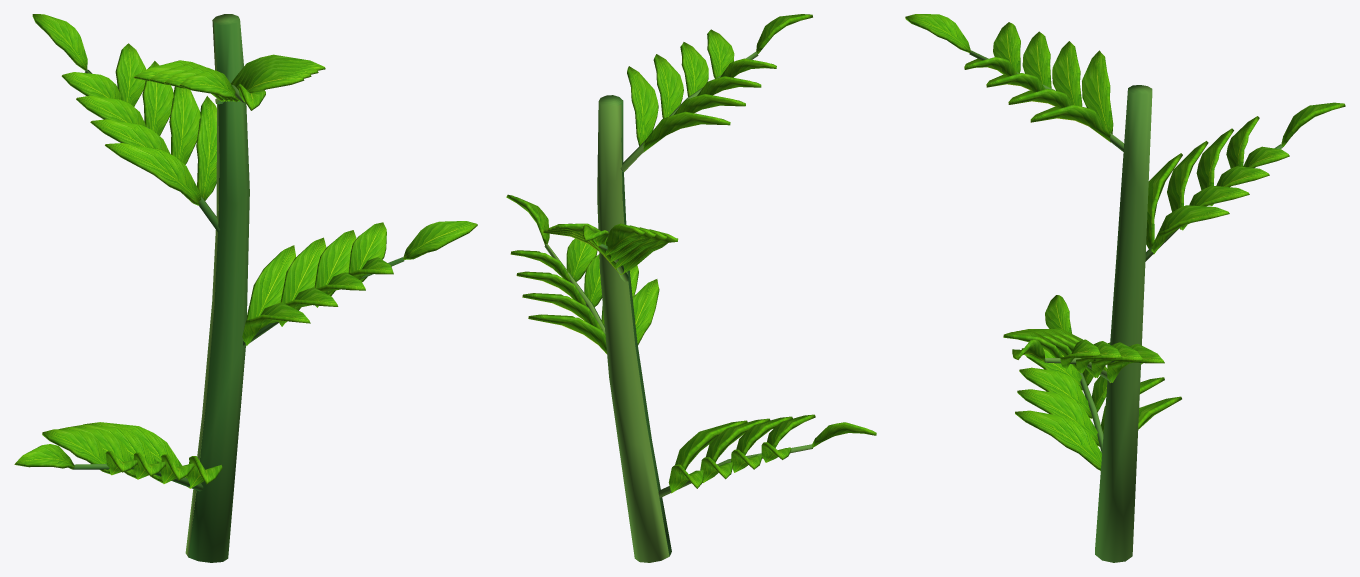
Rendered from NP_Marigold_Young_LOD1.fbx.
3 renders of one model, left to right at view 1: azimuth 30°, elevation 25°; view 2: azimuth 150°, elevation 25°; view 3: azimuth 270°, elevation 25°, orthographic. The views are drawn at different scales.
Parts seen in each view (by area): view 1: NP_Marigold_Young; view 2: NP_Marigold_Young; view 3: NP_Marigold_Young.
Part boxes in pixels (x1,y1,x2,y2): NP_Marigold_Young: (14, 14, 477, 562); NP_Marigold_Young: (506, 14, 876, 562); NP_Marigold_Young: (905, 14, 1345, 562).
Size of the model in its own units: 21.43 by 25.82 by 20.06.
